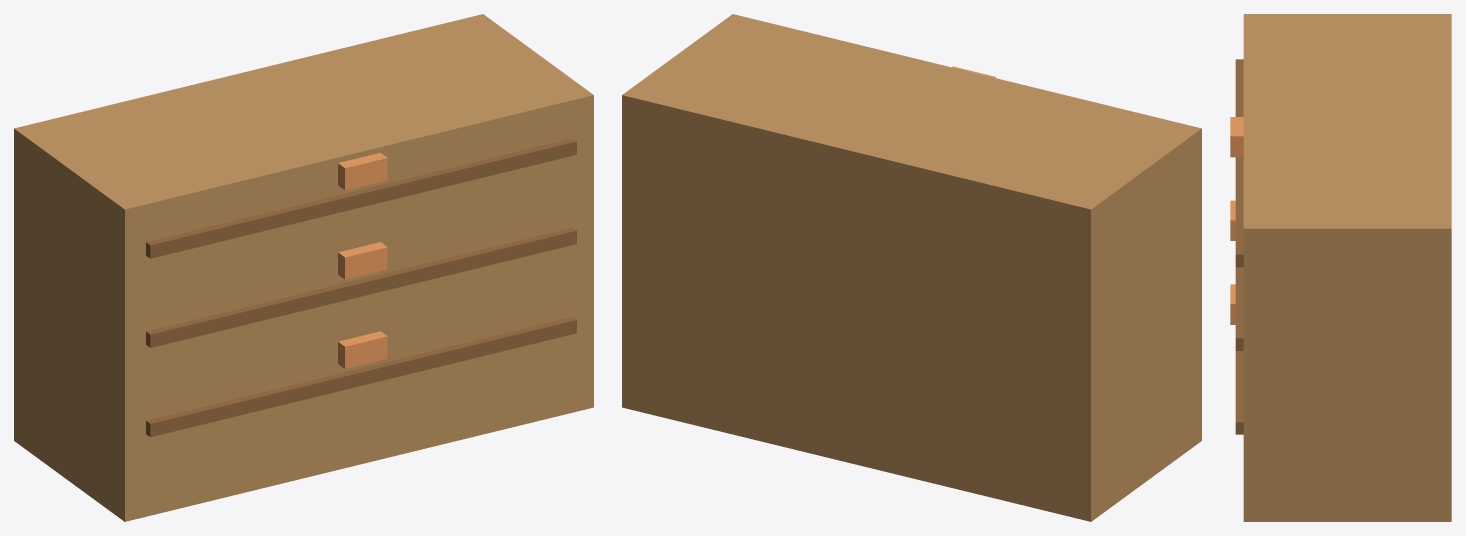
The model's file is dresser.glb.
3 views of the same model, side by side, from view 1: azimuth 30°, elevation 25°; view 2: azimuth 150°, elevation 25°; view 3: azimuth 270°, elevation 25° (orthographic). The views are drawn at different scales.
Parts seen in each view (by area): view 1: dresser; view 2: dresser; view 3: dresser.
Part boxes in pixels (left/top/right/bottom): dresser: left=14, top=14, right=593, bottom=521; dresser: left=622, top=14, right=1201, bottom=521; dresser: left=1230, top=14, right=1451, bottom=521.
Bounding box in the file's own units: 44 × 28 × 19.15.
